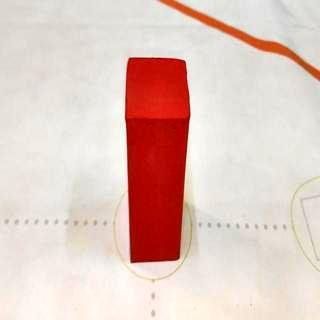redbox: (124, 56, 192, 265)
